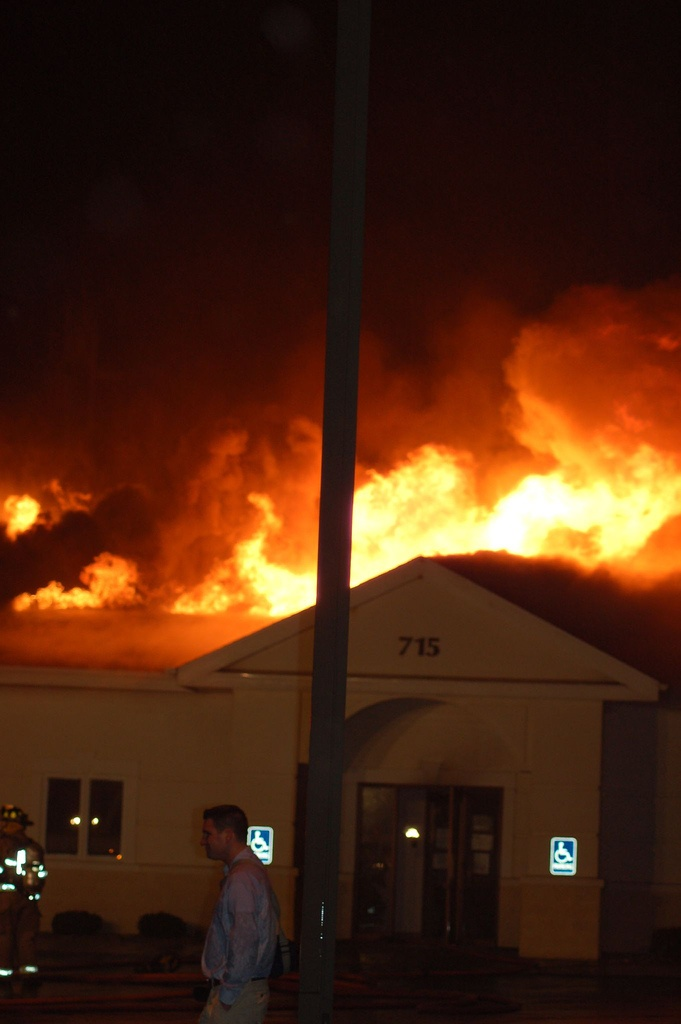fire: (8, 453, 681, 634)
